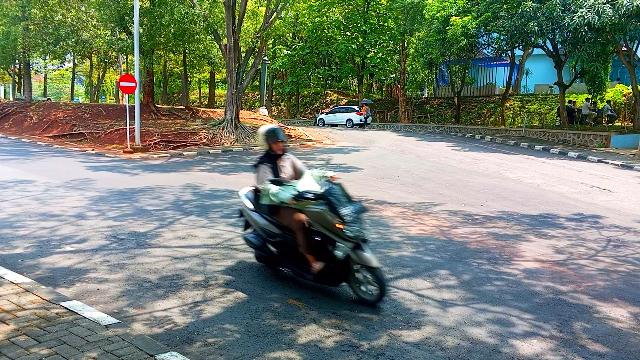helm: (258, 124, 289, 152)
motor: (238, 184, 386, 305)
